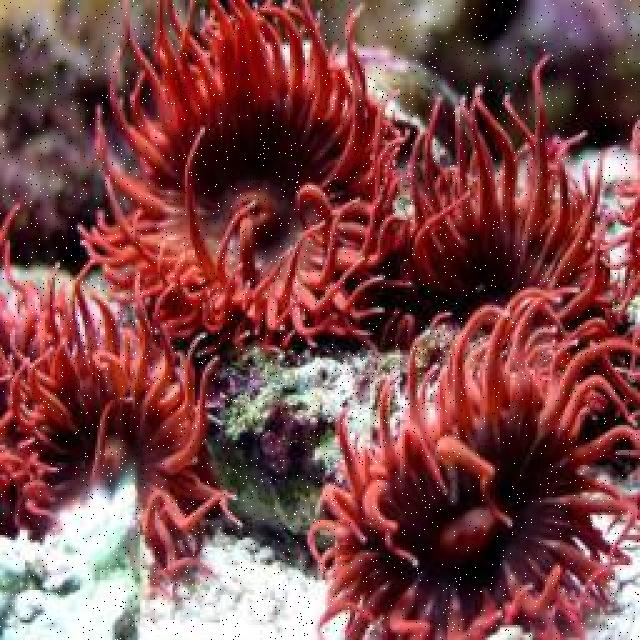reefs: (77, 0, 414, 357), (307, 284, 638, 638), (0, 202, 246, 595), (374, 51, 629, 348)
